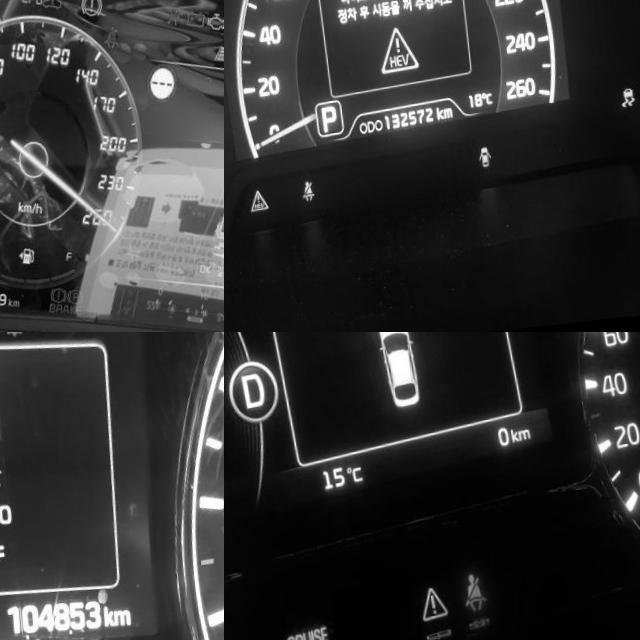Central Warning lamp: (407, 590, 437, 630)
